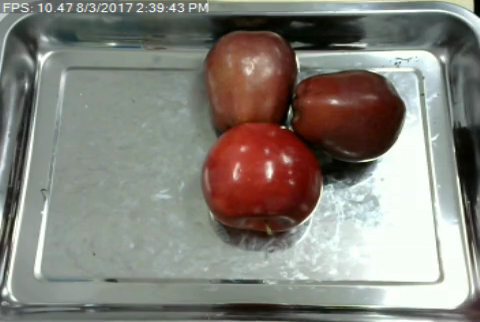Apple: (196, 120, 328, 236), (287, 63, 408, 167), (201, 26, 299, 132)
